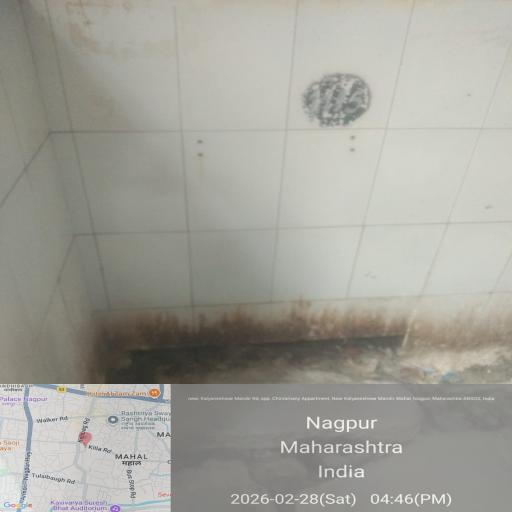dirty_floor: (74, 293, 512, 512)
partial_dirty_floor: (58, 43, 494, 251)
